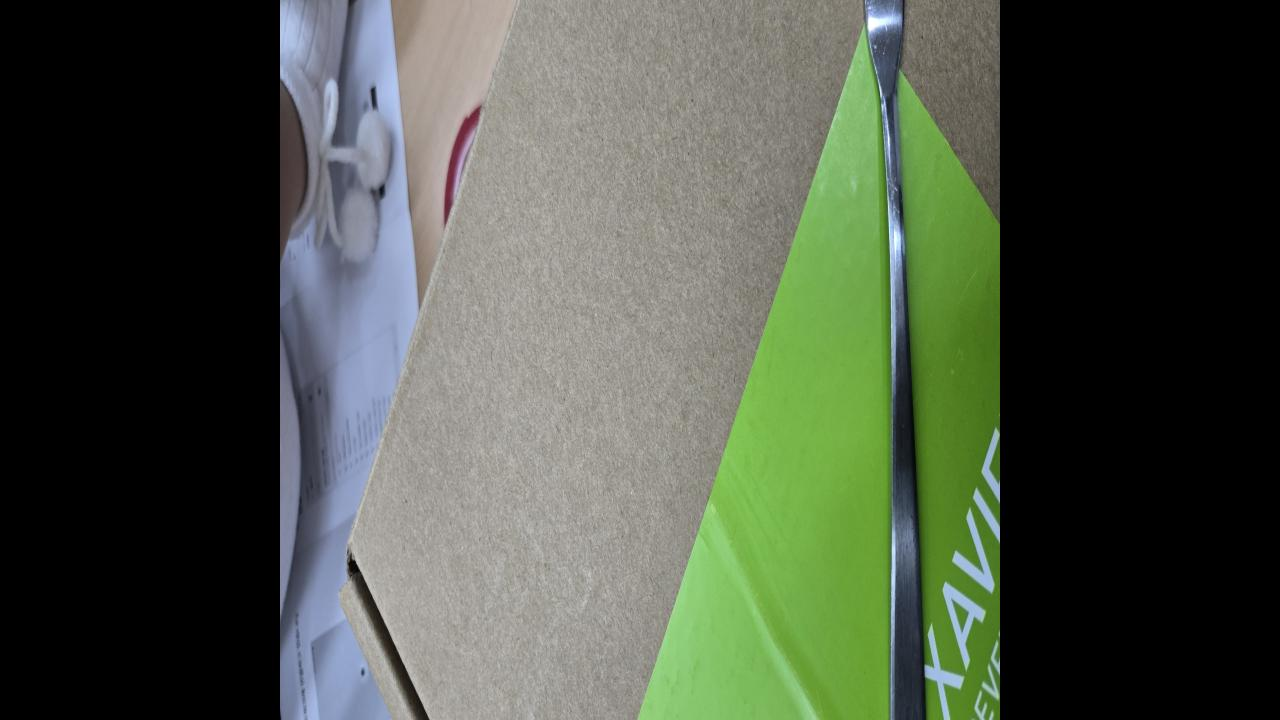fork: (863, 0, 927, 720)
